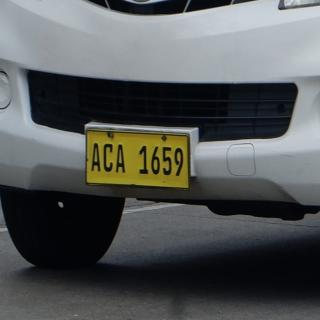license: (87, 131, 190, 190)
